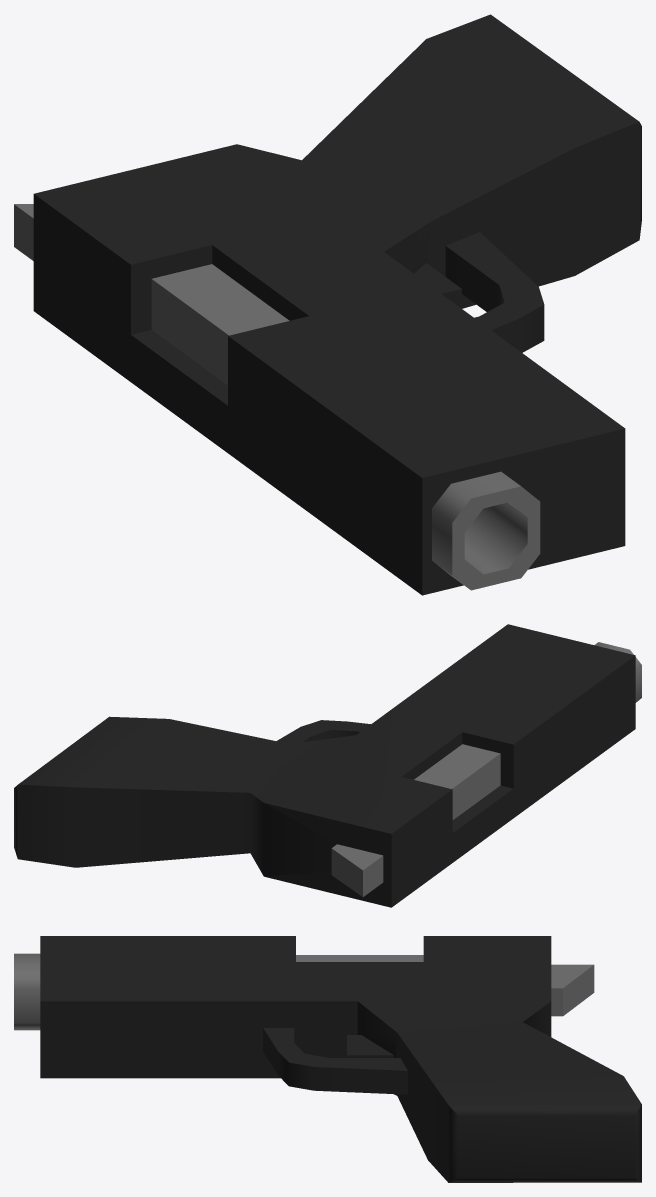
File: Asset_Gun.fbx
3 views of the same model, one above another, from view 1: azimuth 30°, elevation 25°; view 2: azimuth 150°, elevation 25°; view 3: azimuth 270°, elevation 25° (orthographic). The views are drawn at different scales.
Parts seen in each view (by area): view 1: Asset_Gun; view 2: Asset_Gun; view 3: Asset_Gun.
Part boxes in pixels (x1,y1,x2,y2): Asset_Gun: (14,14,641,595); Asset_Gun: (14,624,641,907); Asset_Gun: (14,936,641,1182).
Size of the model in its own units: 18.59 by 4.23 by 28.6.
